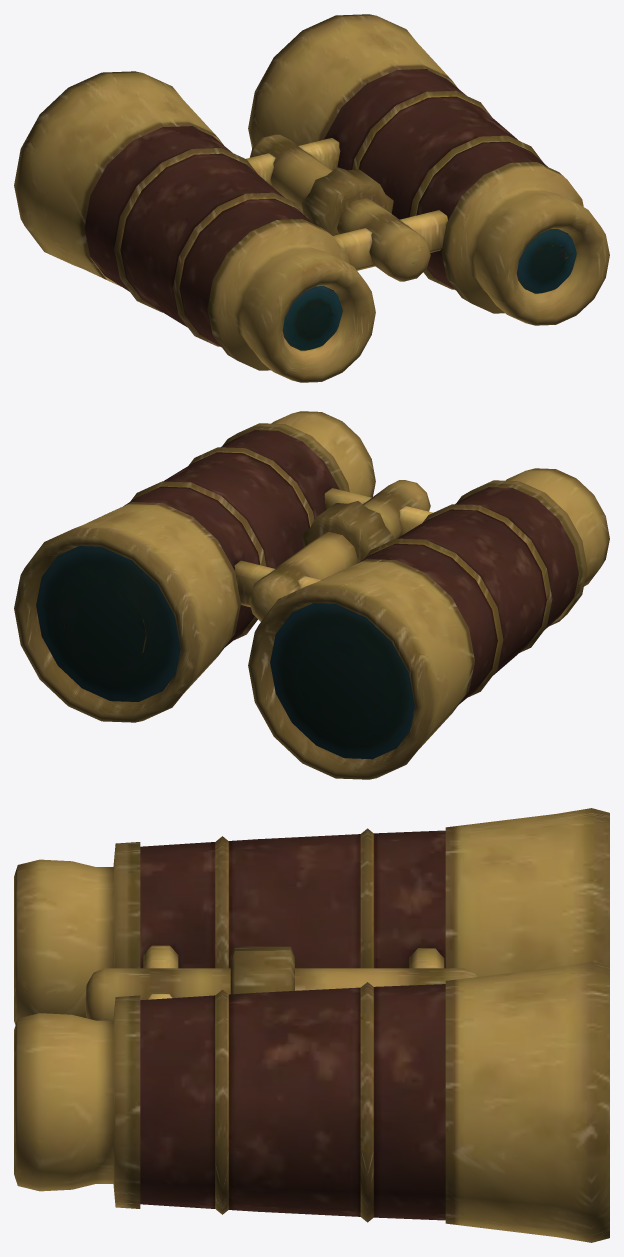
The model's file is binoculars.glb.
The picture shows the model from 3 angles, top to bottom: view 1: azimuth 30°, elevation 25°; view 2: azimuth 150°, elevation 25°; view 3: azimuth 270°, elevation 25°; orthographic projection. The views are drawn at different scales.
Visible parts, largest first — view 1: Binoculars; view 2: Binoculars; view 3: Binoculars.
Part boxes in pixels (bbox=[...]): Binoculars: bbox=[14, 14, 609, 382]; Binoculars: bbox=[14, 411, 609, 779]; Binoculars: bbox=[14, 808, 609, 1242].
Bounding box in the file's own units: 0.12 × 0.0524 × 0.1109.
Materials: 1 (1 with a texture image).
